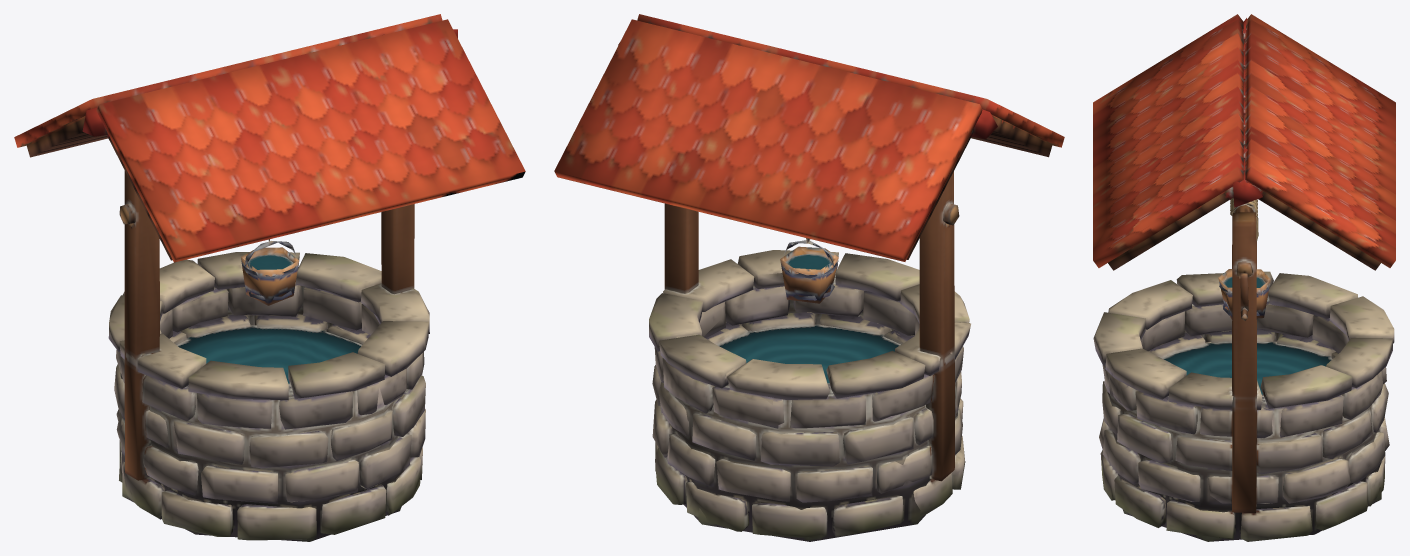
File: stone_well.glb
The picture shows the model from 3 angles, left to right: view 1: azimuth 30°, elevation 25°; view 2: azimuth 150°, elevation 25°; view 3: azimuth 270°, elevation 25°; orthographic projection. The views are drawn at different scales.
Visible parts, largest first — view 1: stone_well; view 2: stone_well; view 3: stone_well.
Boxes of the visible parts, x1=… form: stone_well: x1=14, y1=14, x2=525, y2=541; stone_well: x1=554, y1=14, x2=1064, y2=541; stone_well: x1=1093, y1=14, x2=1395, y2=541.
Bounding box in the file's own units: 1.88 × 2.07 × 1.46.
1 material, 1 textured.
